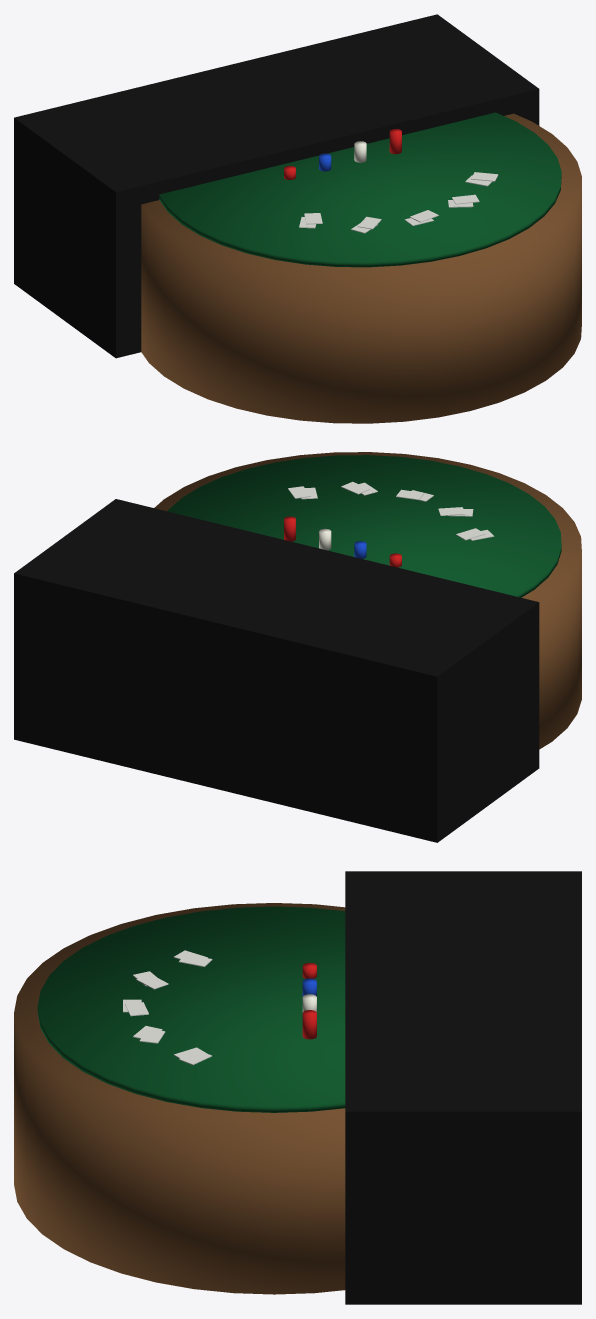
File: blackjack_table.glb
3 renders of one model, top to bottom at view 1: azimuth 30°, elevation 25°; view 2: azimuth 150°, elevation 25°; view 3: azimuth 270°, elevation 25°, orthographic. The views are drawn at different scales.
Visible parts, largest first — view 1: blackjack_table; view 2: blackjack_table; view 3: blackjack_table.
Part boxes in pixels (x1=…): blackjack_table: x1=14, y1=14, x2=581, y2=423; blackjack_table: x1=14, y1=452, x2=581, y2=842; blackjack_table: x1=14, y1=871, x2=581, y2=1304.
Bounding box in the file's own units: 2.4 × 0.94 × 2.4.
Materials: 1 (1 with a texture image).
